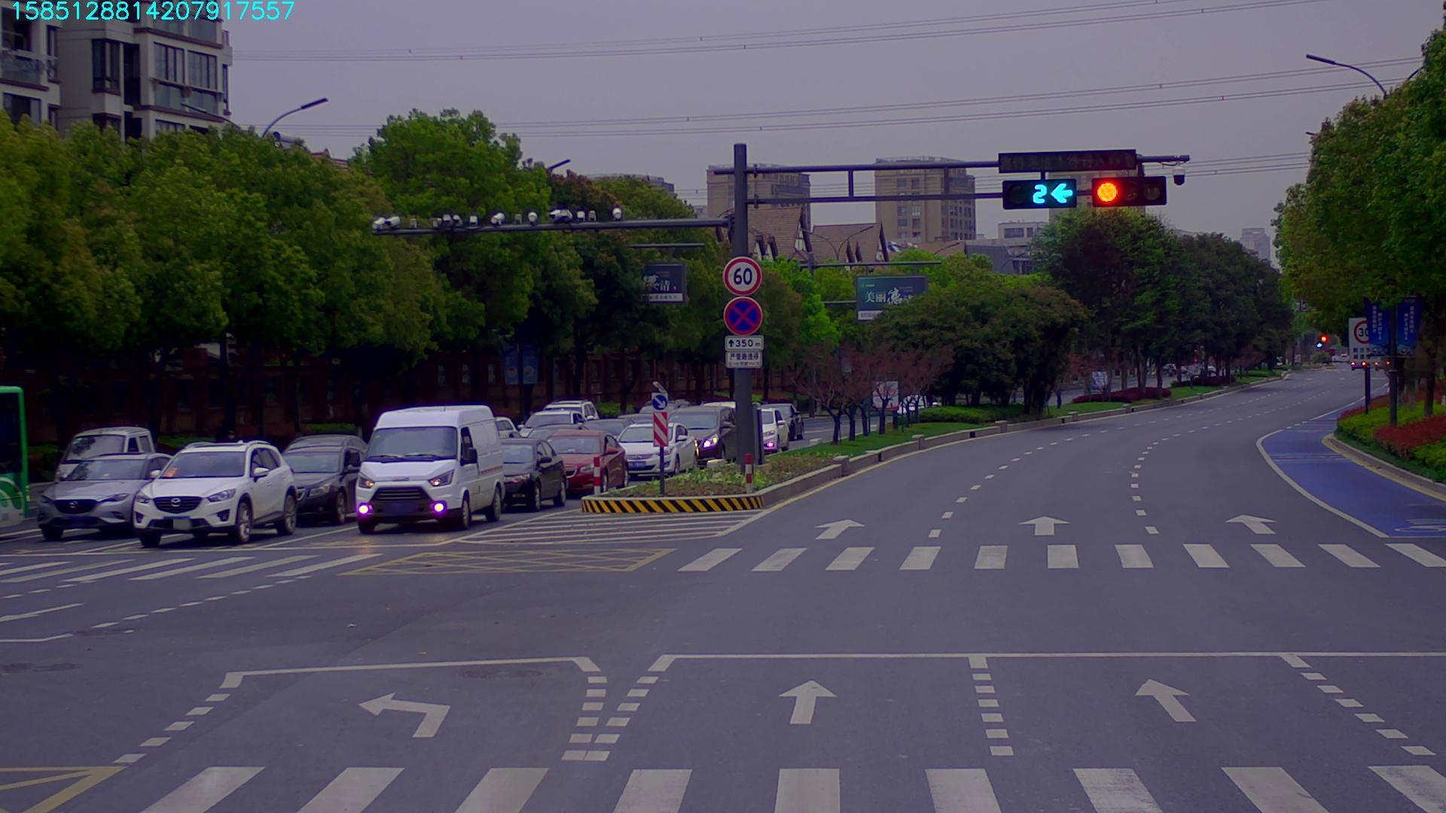green: (1004, 184, 1068, 205)
red: (1086, 177, 1172, 209)
